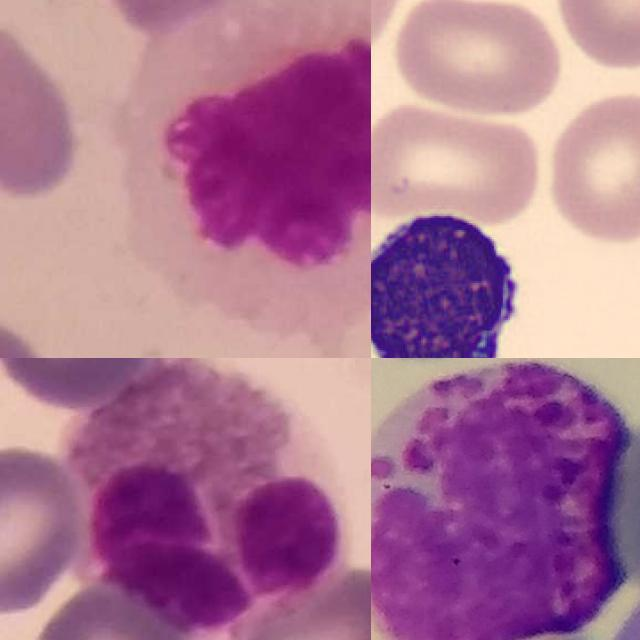Basophil: (371, 358, 630, 640)
Eosinophil: (60, 358, 347, 640)
Lymphocyte: (371, 198, 536, 358)
Monocyte: (129, 0, 371, 327)
RBC: (371, 96, 545, 228), (387, 0, 566, 121), (541, 85, 640, 246), (548, 0, 640, 73), (371, 0, 410, 61)
